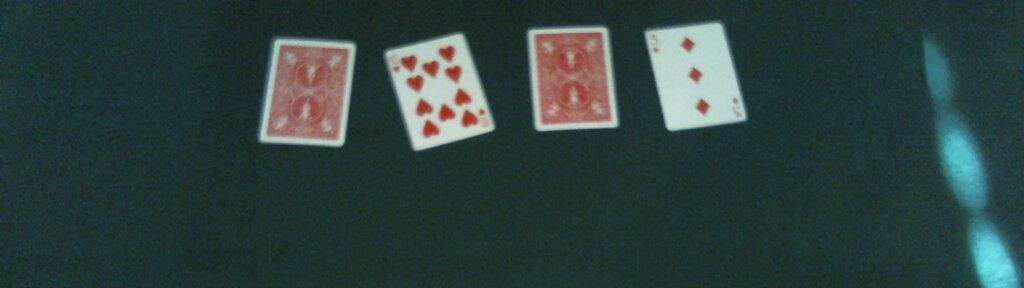back: (254, 37, 357, 146), (527, 24, 620, 130)
ten: (383, 32, 495, 151)
three: (644, 21, 746, 132)
